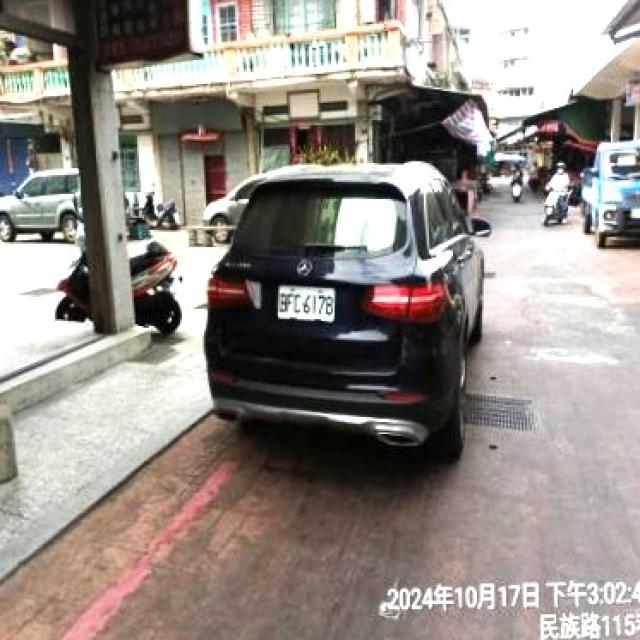illegalparking: (204, 161, 489, 458)
